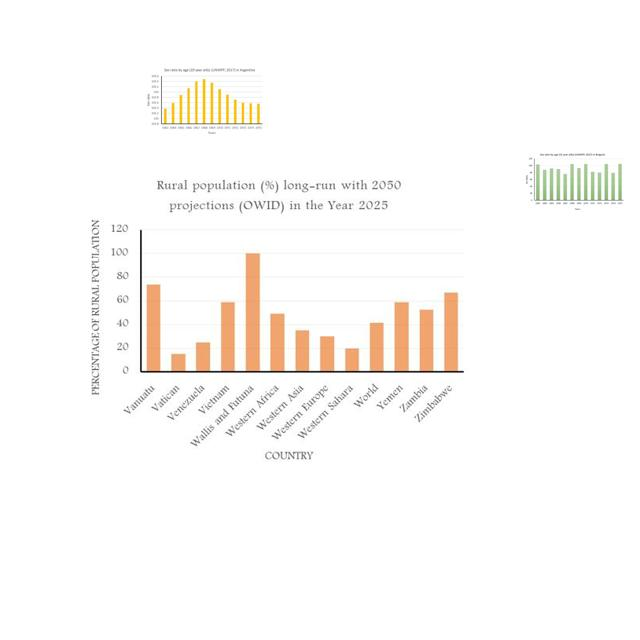Graph: (85, 173, 470, 465), (144, 66, 264, 137), (524, 152, 627, 212)
